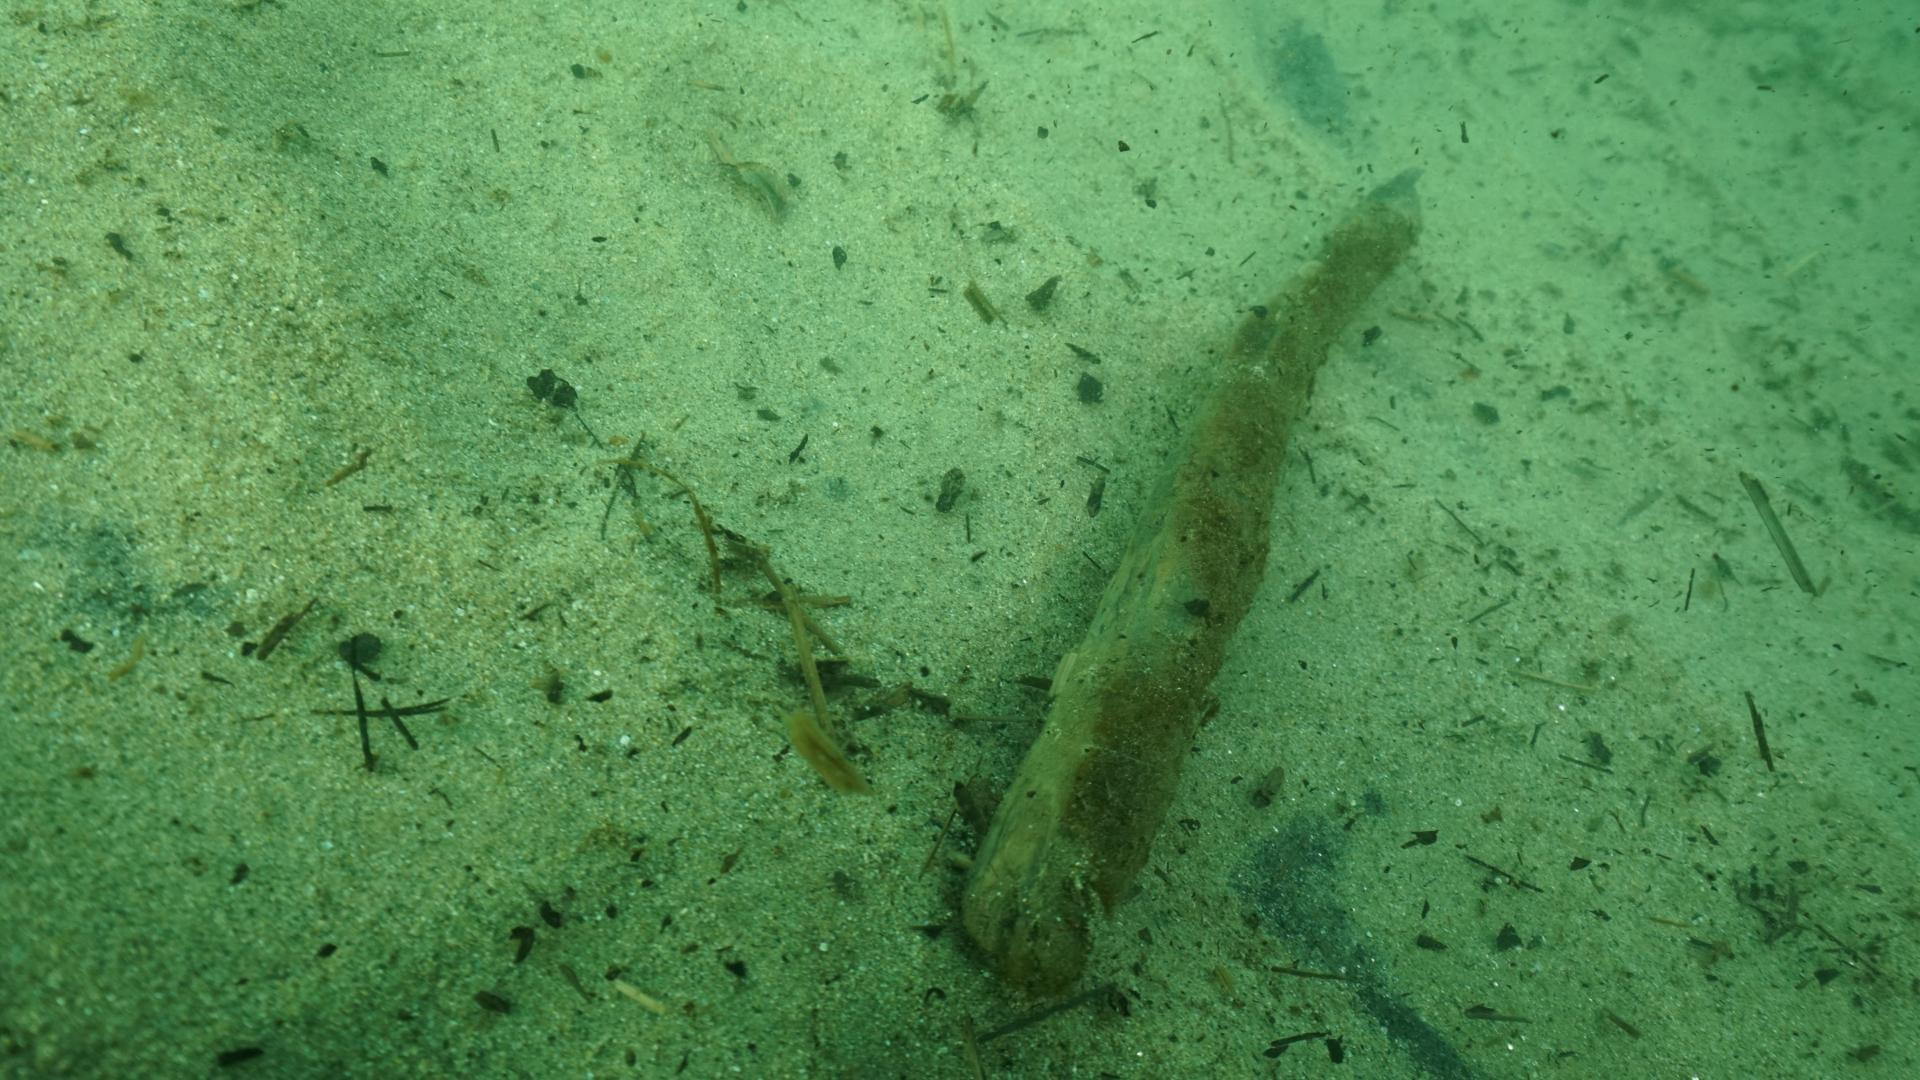wood: (956, 164, 1425, 992)
